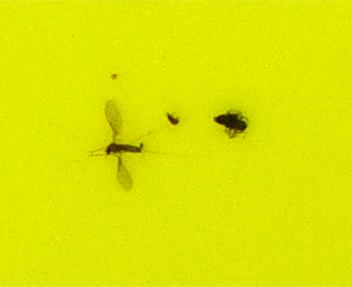Araneae: (213, 111, 252, 139)
Nematocera: (100, 100, 149, 187), (159, 108, 183, 129)
